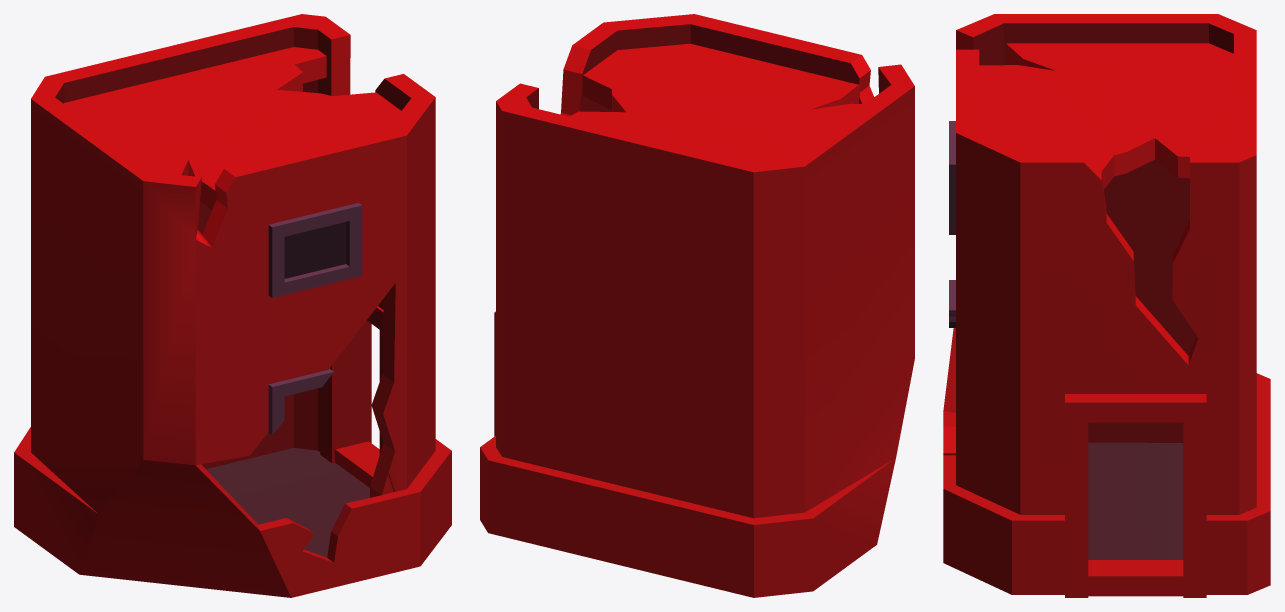
File: square_house_b.fbx
3 views of the same model, side by side, from view 1: azimuth 30°, elevation 25°; view 2: azimuth 150°, elevation 25°; view 3: azimuth 270°, elevation 25° (orthographic). The views are drawn at different scales.
Parts seen in each view (by area): view 1: square_house_b; view 2: square_house_b; view 3: square_house_b.
Part boxes in pixels (x1,y1,x2,y2): square_house_b: (14,14,451,597); square_house_b: (480,14,914,597); square_house_b: (943,14,1270,597).
Bounding box in the file's own units: 373 × 454 × 316.
